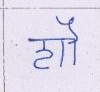au_matra: (63, 16, 84, 65)
